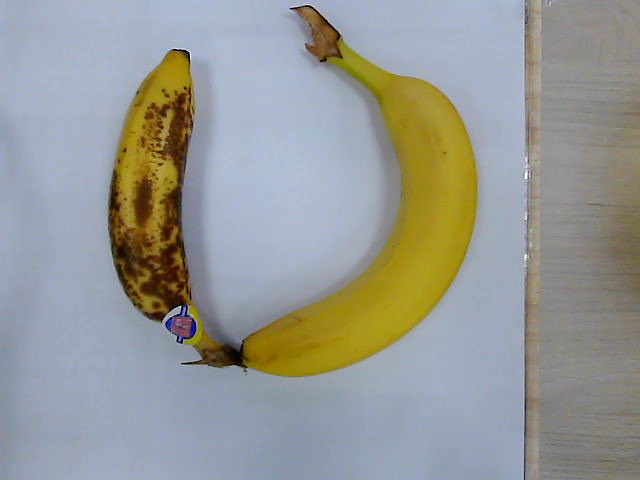fresh_banana: (240, 3, 476, 374)
rotten_banana: (108, 50, 242, 370)
